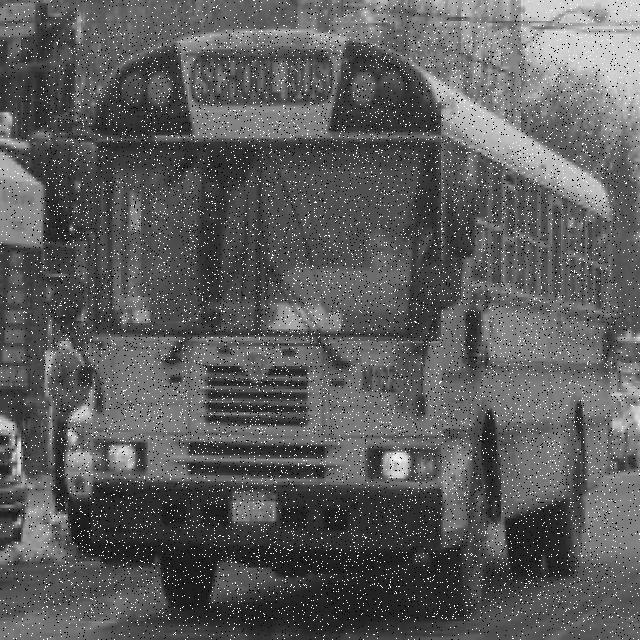Bus: (43, 30, 617, 620)
